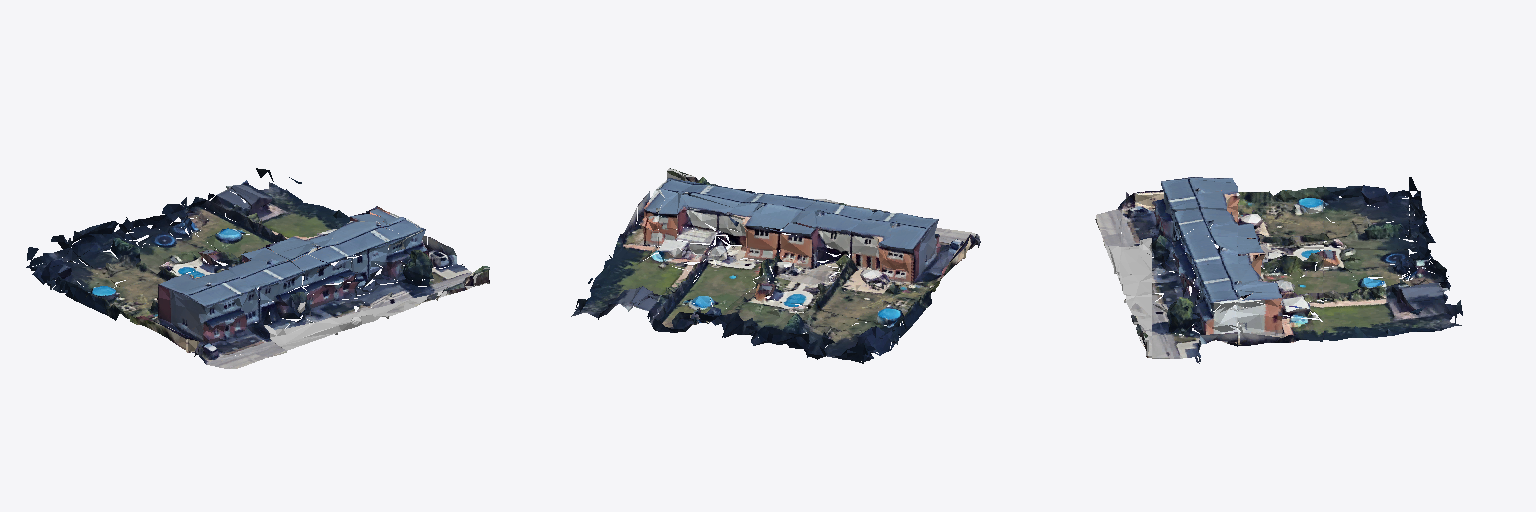
3 renders of one model, left to right at view 1: azimuth 30°, elevation 25°; view 2: azimuth 150°, elevation 25°; view 3: azimuth 270°, elevation 25°, orthographic.
Parts seen in each view (by area): view 1: BuildingMesh-00023, BuildingMesh-00011, BuildingMesh-00026, BuildingMesh-00008, BuildingMesh-00000, BuildingMesh-00006, BuildingMesh-00022, BuildingMesh-00031, BuildingMesh-00037; view 2: BuildingMesh-00023, BuildingMesh-00011, BuildingMesh-00026, BuildingMesh-00008, BuildingMesh-00000, BuildingMesh-00006, BuildingMesh-00022; view 3: BuildingMesh-00026, BuildingMesh-00023, BuildingMesh-00011, BuildingMesh-00000, BuildingMesh-00008, BuildingMesh-00006, BuildingMesh-00022, BuildingMesh-00031.
Boxes of the visible parts, x1=… form: BuildingMesh-00023: x1=181, y1=234, x2=372, y2=329; BuildingMesh-00011: x1=74, y1=268, x2=262, y2=352; BuildingMesh-00026: x1=317, y1=206, x2=485, y2=308; BuildingMesh-00008: x1=128, y1=188, x2=285, y2=273; BuildingMesh-00000: x1=26, y1=217, x2=174, y2=299; BuildingMesh-00006: x1=226, y1=168, x2=349, y2=238; BuildingMesh-00022: x1=185, y1=325, x2=286, y2=368; BuildingMesh-00031: x1=264, y1=302, x2=386, y2=350; BuildingMesh-00037: x1=387, y1=266, x2=489, y2=318; BuildingMesh-00023: x1=694, y1=193, x2=877, y2=304; BuildingMesh-00011: x1=803, y1=210, x2=966, y2=331; BuildingMesh-00026: x1=613, y1=177, x2=755, y2=275; BuildingMesh-00008: x1=633, y1=271, x2=798, y2=337; BuildingMesh-00000: x1=751, y1=301, x2=905, y2=363; BuildingMesh-00006: x1=571, y1=255, x2=686, y2=319; BuildingMesh-00022: x1=935, y1=228, x2=980, y2=258; BuildingMesh-00026: x1=1152, y1=263, x2=1323, y2=363; BuildingMesh-00023: x1=1152, y1=208, x2=1325, y2=303; BuildingMesh-00011: x1=1152, y1=177, x2=1323, y2=248; BuildingMesh-00000: x1=1323, y1=177, x2=1435, y2=249; BuildingMesh-00008: x1=1322, y1=231, x2=1450, y2=302; BuildingMesh-00006: x1=1324, y1=285, x2=1462, y2=340; BuildingMesh-00022: x1=1095, y1=191, x2=1151, y2=247; BuildingMesh-00031: x1=1105, y1=238, x2=1151, y2=302.
Bounding box in the file's own units: 110 × 16.48 × 104.
12 materials, 9 textured.